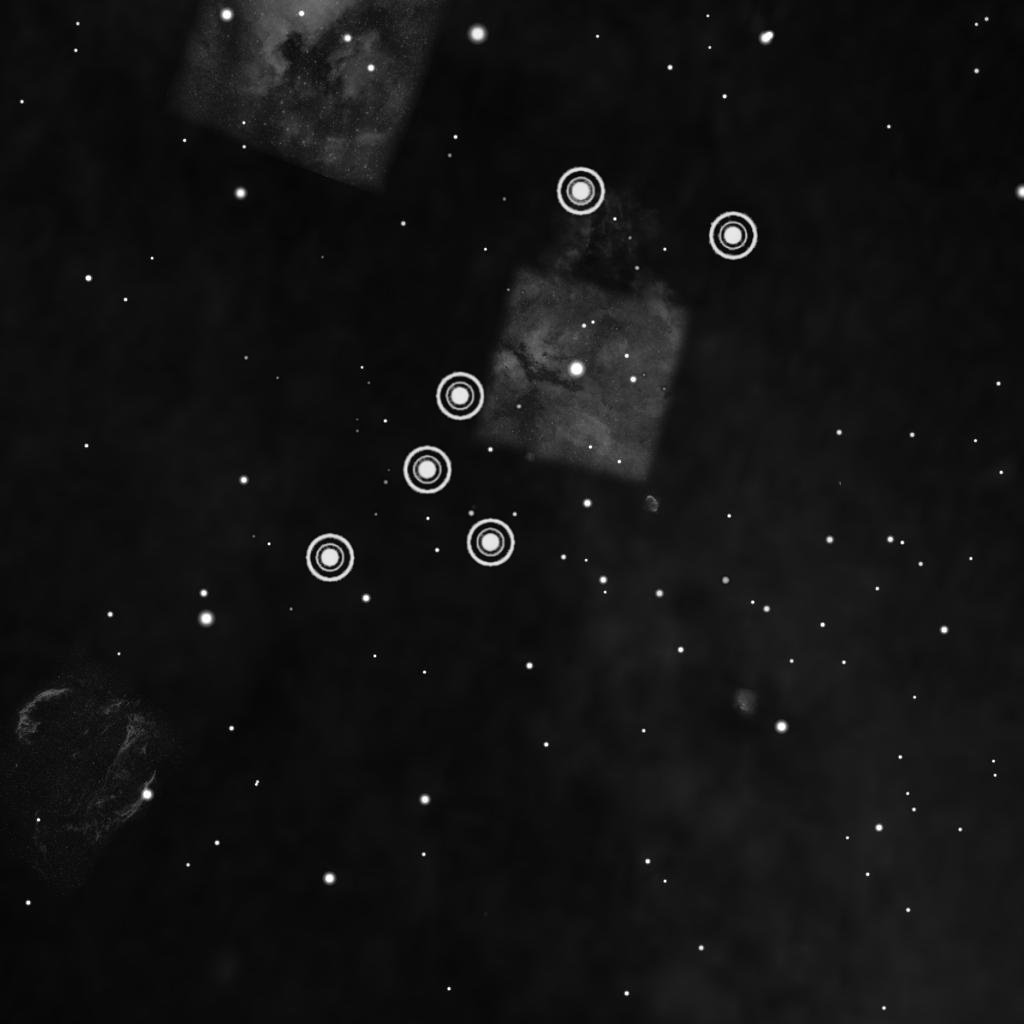canis_major: (294, 161, 769, 595)
